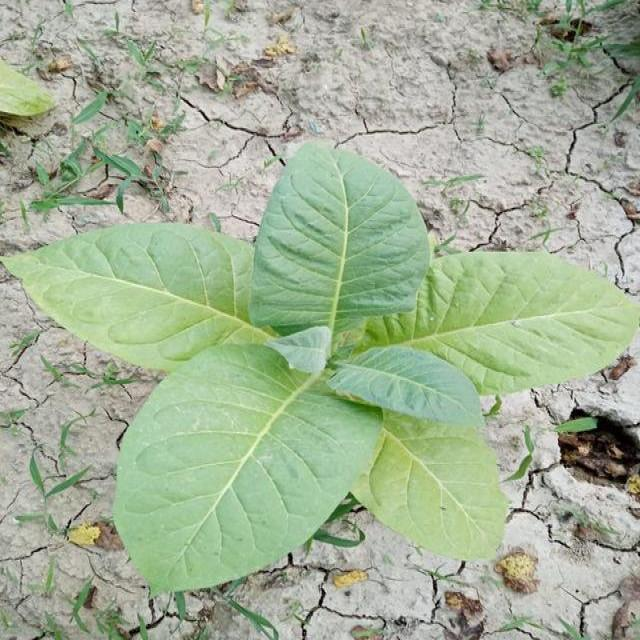crop: (10, 151, 630, 589)
